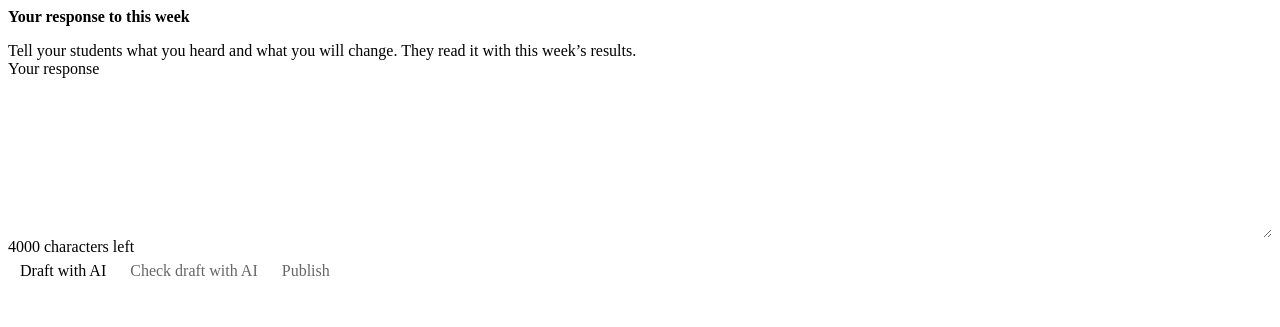
Scenario: using a draft › fills an empty editor without asking
Click the button "Draft with AI": point(63, 271) x1=8 y1=256 x2=118 y2=286
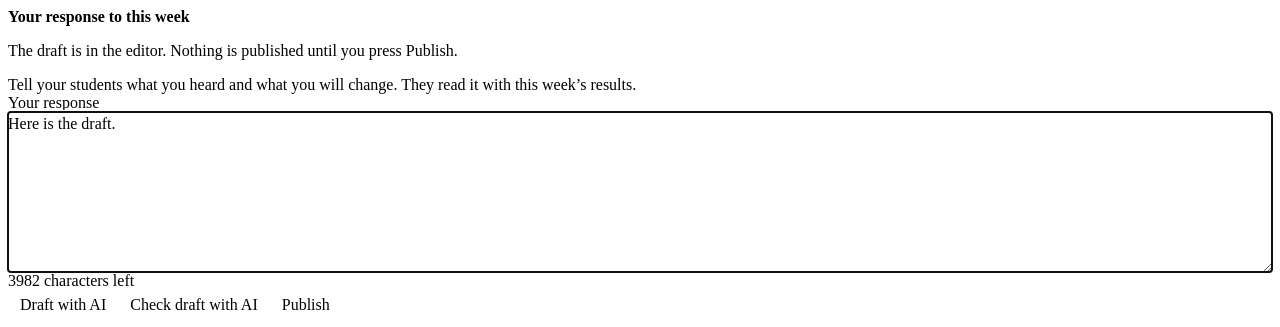
Check: the text box labelled "Your response" holds "Here is the draft.", box x1=8 y1=112 x2=1272 y2=272
